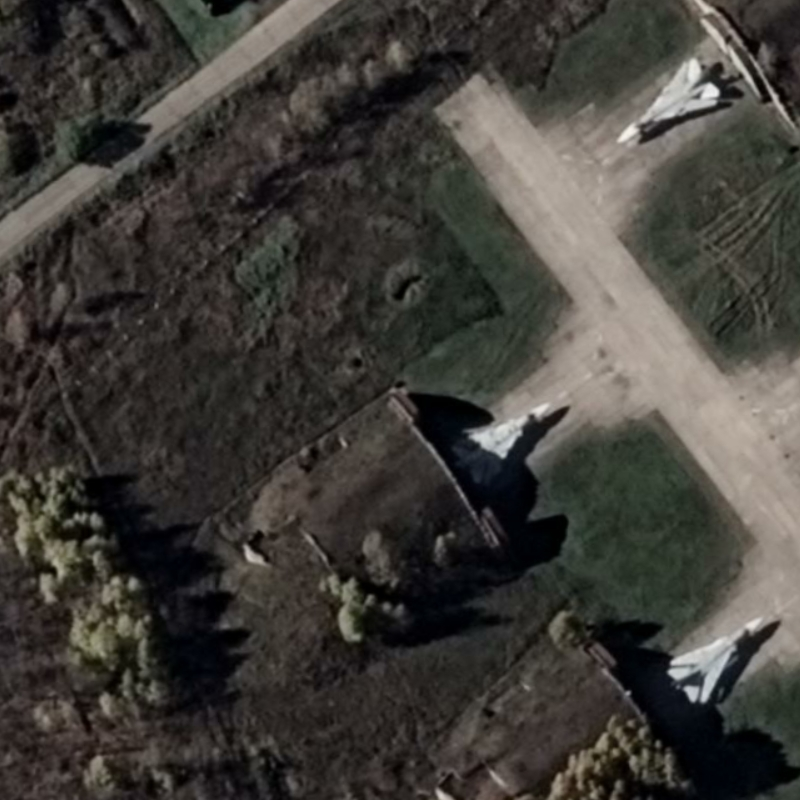A20: (614, 55, 723, 146), (662, 614, 767, 706), (449, 400, 552, 487)
